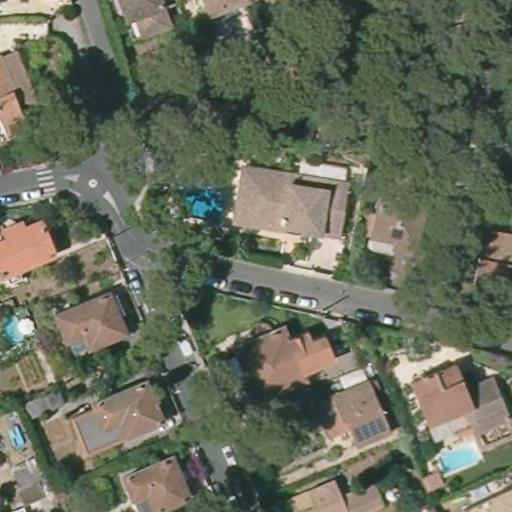pool: (178, 178, 227, 228), (430, 437, 490, 473), (0, 314, 27, 349), (6, 420, 28, 447)
